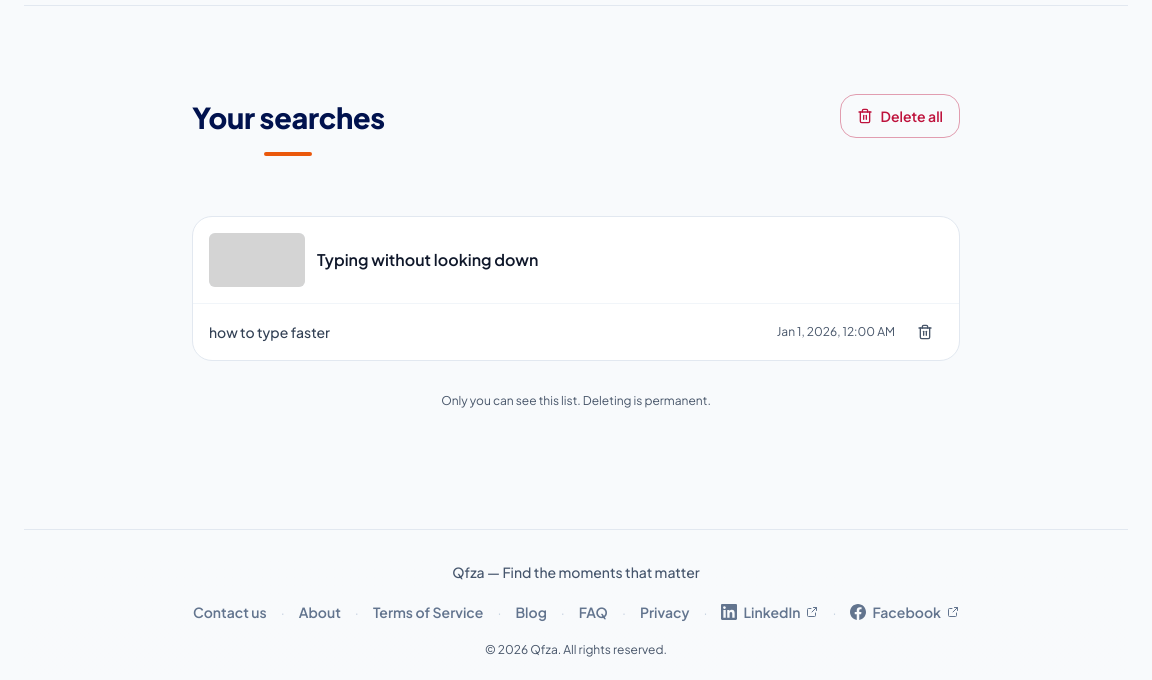
Scenario: replaying a saved search from history › shows that moment as the active match row, not a bare video
(page scrolled)
Click the link "how to type faster" at coordinates (270, 332), box [209,322,330,342]
(page scrolled)
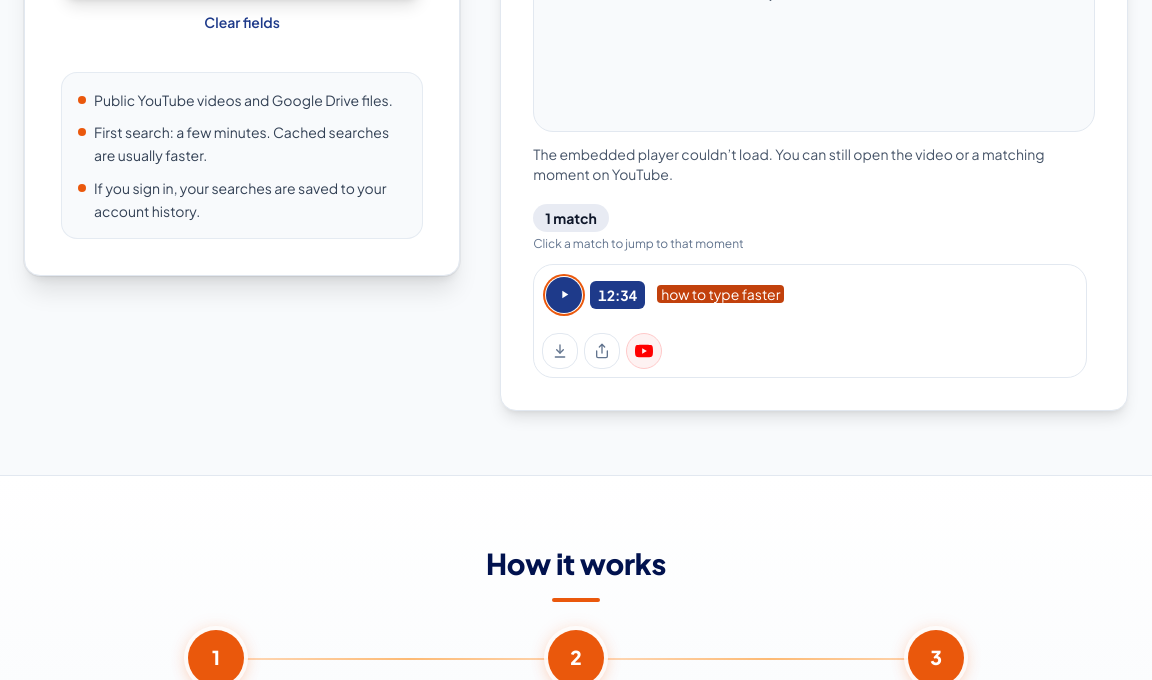
expect the list item named "Play at 12:34" shows "how to type faster": met, box [534,264,1086,324]
